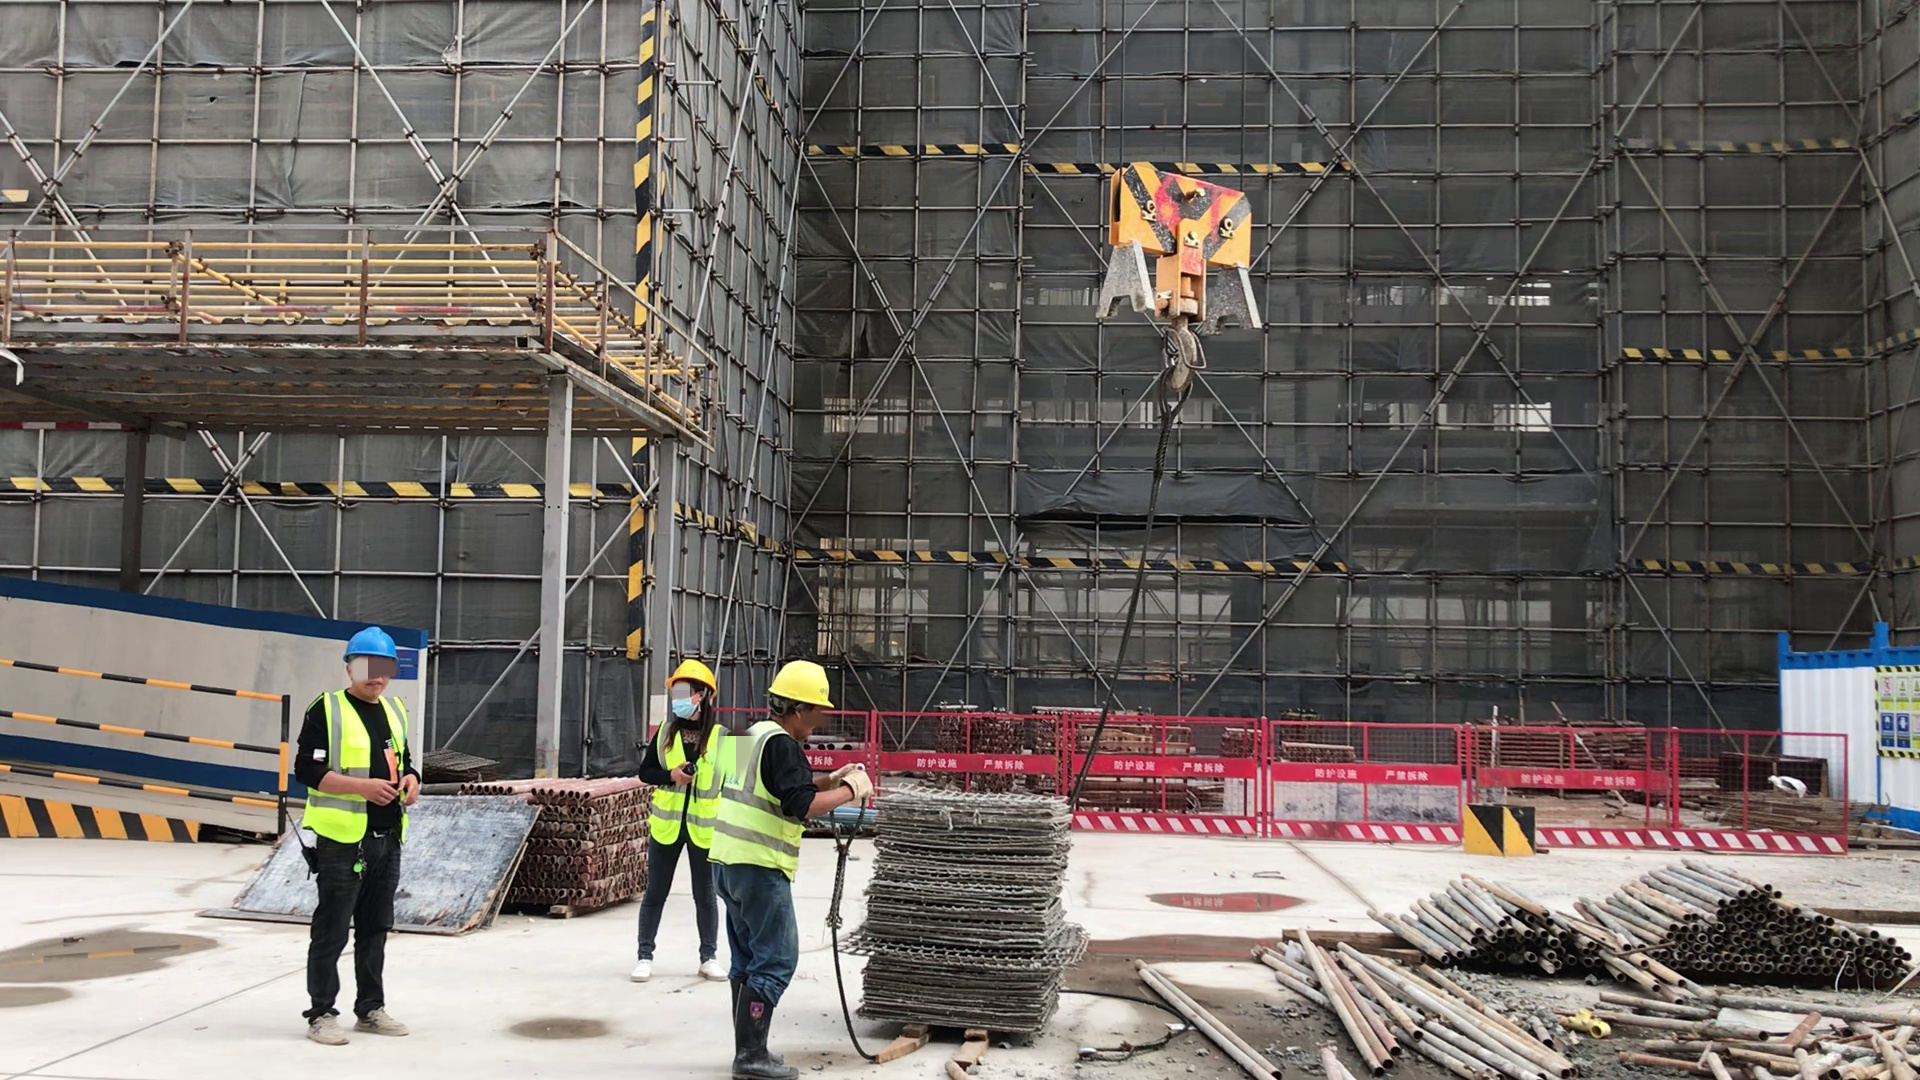fence: (1065, 705, 1456, 853), (3, 653, 288, 826), (1533, 723, 1856, 863), (865, 701, 1062, 791)
helmet: (767, 661, 836, 709), (660, 658, 718, 699), (343, 625, 400, 666)
hook: (1099, 152, 1266, 393)
person: (719, 659, 872, 1080), (289, 625, 423, 1049), (630, 658, 725, 985)
scaffold: (1622, 869, 1920, 1007), (1377, 876, 1611, 989), (544, 776, 632, 922)
slogan: (1873, 667, 1920, 754)
vest: (305, 688, 409, 846), (707, 722, 802, 886), (648, 720, 717, 852)
